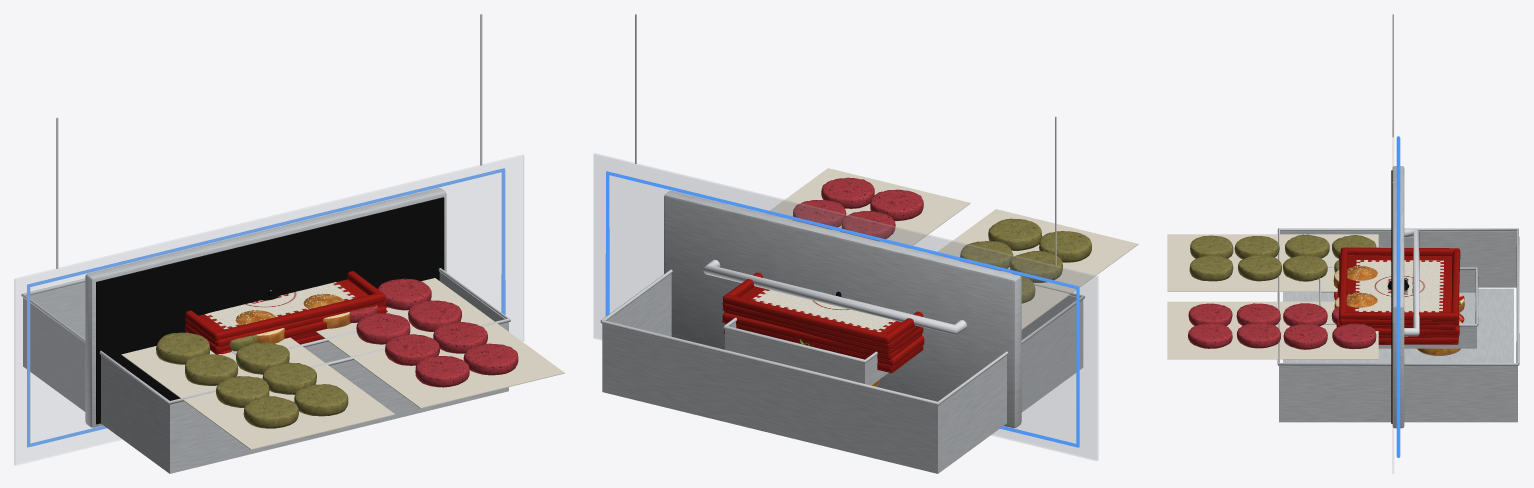
File: props.gltf
3 renders of one model, left to right at view 1: azimuth 30°, elevation 25°; view 2: azimuth 150°, elevation 25°; view 3: azimuth 270°, elevation 25°, orthographic. The views are drawn at different scales.
Visible parts, largest first — view 1: open_frame, drawer_gasket, drawer, drawer_tub, paper_drawer_veggie, paper_drawer_patty, tray_stack, drawer_front, neon_open_border, pan_bin_bun_bottom; view 2: drawer_tub, drawer_front, open_frame, drawer, tray_stack, paper_drawer_veggie, pan_bin_bun_bottom, paper_drawer_patty, neon_open_border, drawer_pull; view 3: drawer_tub, drawer, tray_stack, paper_drawer_patty, paper_drawer_veggie, drawer_front, pan_bin_bun_bottom, neon_open_border, open_frame, drawer_pull, drawer_gasket, fill_bin_bun_top_2 (+1 smaller).
Part boxes in pixels (left/top/right/bottom): open_frame: left=14, top=14, right=523, bottom=465; drawer_gasket: left=96, top=197, right=444, bottom=424; drawer: left=156, top=278, right=518, bottom=428; drawer_tub: left=21, top=268, right=510, bottom=473; paper_drawer_veggie: left=121, top=337, right=395, bottom=449; paper_drawer_patty: left=316, top=278, right=564, bottom=408; tray_stack: left=185, top=271, right=387, bottom=354; drawer_front: left=85, top=188, right=446, bottom=427; neon_open_border: left=27, top=168, right=505, bottom=447; pan_bin_bun_bottom: left=231, top=331, right=356, bottom=362; drawer_tub: left=600, top=269, right=1084, bottom=473; drawer_front: left=664, top=191, right=1021, bottom=428; open_frame: left=593, top=14, right=1098, bottom=460; drawer: left=793, top=177, right=1091, bottom=303; tray_stack: left=722, top=272, right=924, bottom=373; paper_drawer_veggie: left=934, top=209, right=1138, bottom=329; pan_bin_bun_bottom: left=723, top=317, right=888, bottom=385; paper_drawer_patty: left=766, top=168, right=970, bottom=248; neon_open_border: left=605, top=171, right=1079, bottom=447; drawer_pull: left=703, top=259, right=966, bottom=335; drawer_tub: left=1277, top=228, right=1519, bottom=422; drawer: left=1188, top=234, right=1376, bottom=349; tray_stack: left=1336, top=247, right=1460, bottom=344; paper_drawer_patty: left=1167, top=301, right=1378, bottom=359; paper_drawer_veggie: left=1167, top=234, right=1378, bottom=291; drawer_front: left=1392, top=166, right=1404, bottom=428; pan_bin_bun_bottom: left=1319, top=267, right=1478, bottom=348; neon_open_border: left=1396, top=136, right=1400, bottom=457; open_frame: left=1392, top=14, right=1393, bottom=473; drawer_pull: left=1404, top=229, right=1419, bottom=336; drawer_gasket: left=1391, top=170, right=1392, bottom=423; fill_bin_bun_top_2: left=1346, top=292, right=1377, bottom=307.
Bounding box in the file's own units: 1.2 × 0.81 × 0.884.
Materials: 31 (15 with a texture image).
